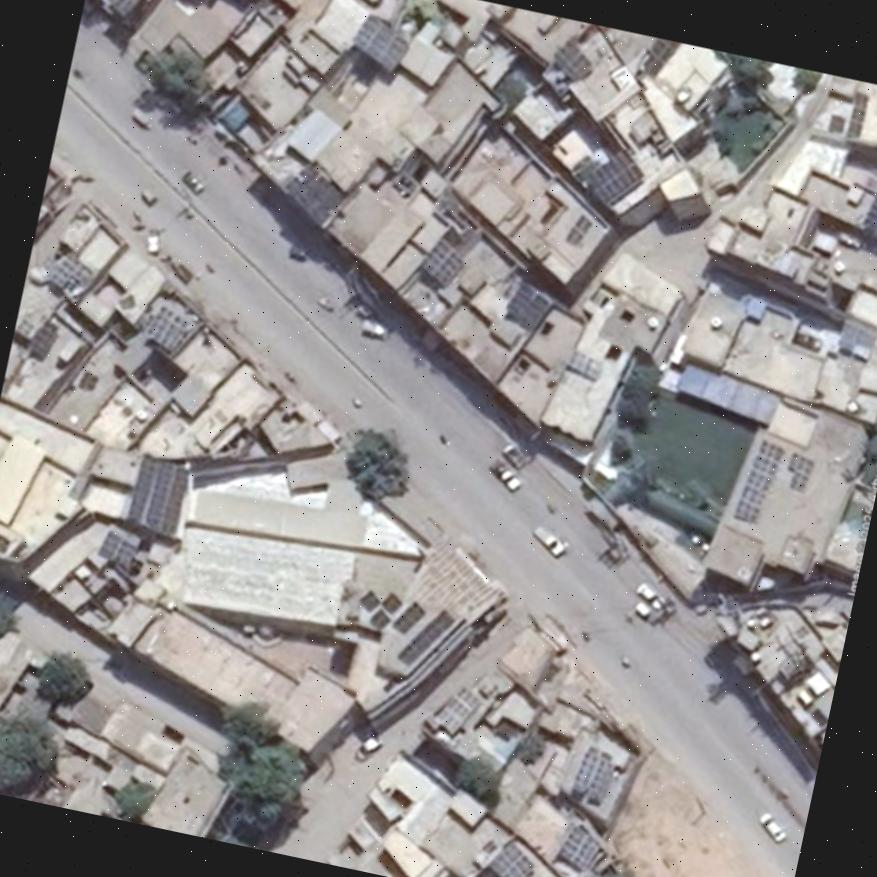Solarpanel: (122, 451, 184, 537), (733, 438, 787, 524), (352, 14, 411, 72), (398, 608, 454, 666), (584, 150, 642, 205), (573, 741, 611, 797), (145, 305, 192, 350), (422, 237, 465, 285), (558, 823, 601, 871), (552, 39, 593, 83), (508, 284, 547, 329), (484, 841, 529, 877), (97, 532, 136, 570), (390, 602, 427, 634), (860, 192, 877, 235)
